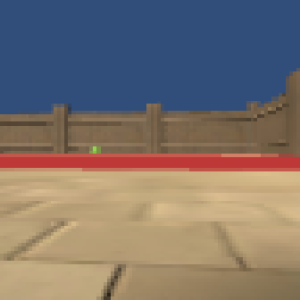deathZone: (1, 153, 300, 173)
goodGoal: (88, 145, 101, 153)
